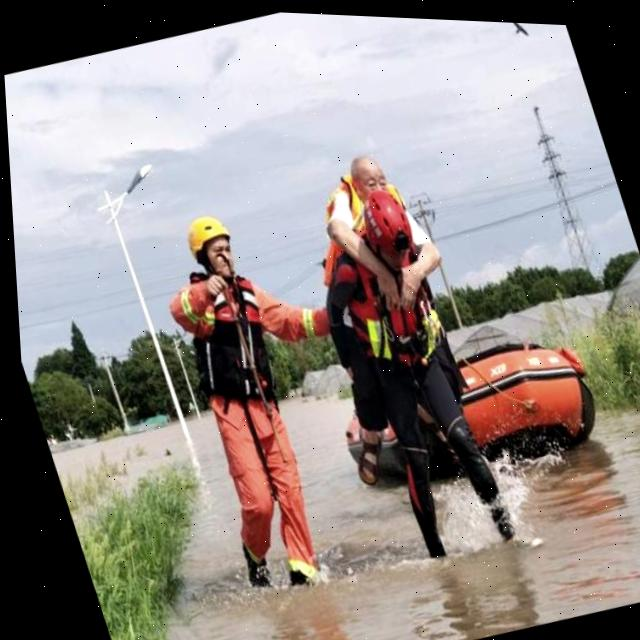civilian: (251, 124, 521, 511)
rescuer: (127, 187, 417, 628), (276, 173, 537, 591)
